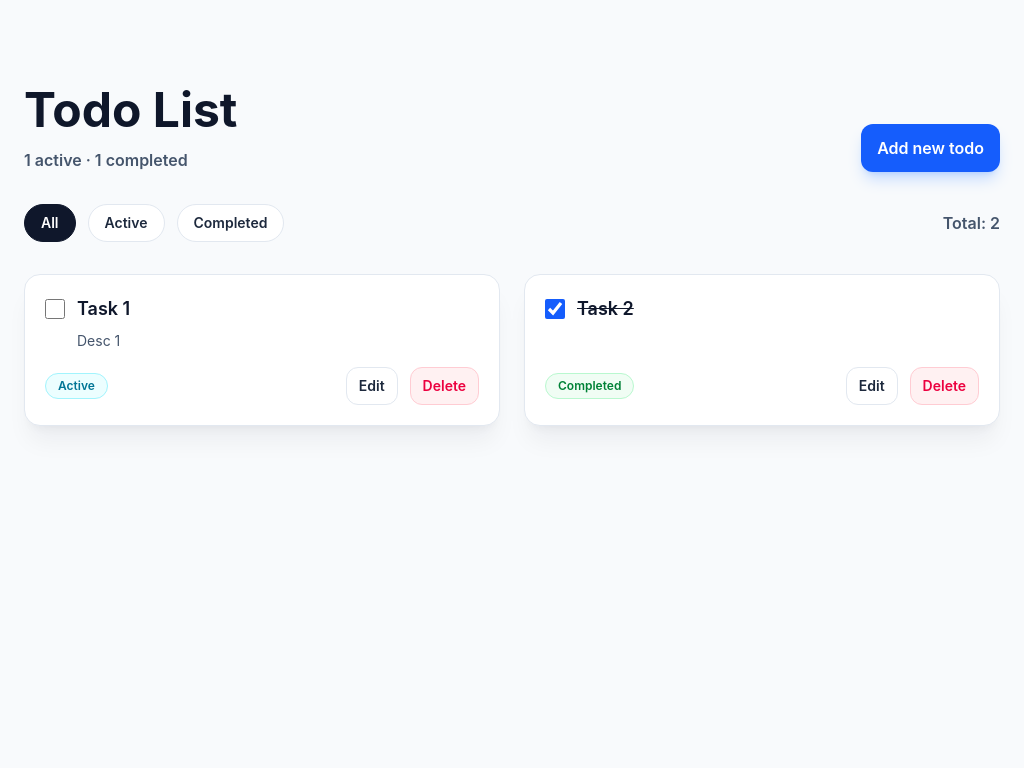
Test: TodoList › should delete todo with undo option
Expected: the heading "Task 1" is shown, 77,298 -> 130,319
Click the 1st button "Delete" at (444, 386), box 410,367 -> 479,405
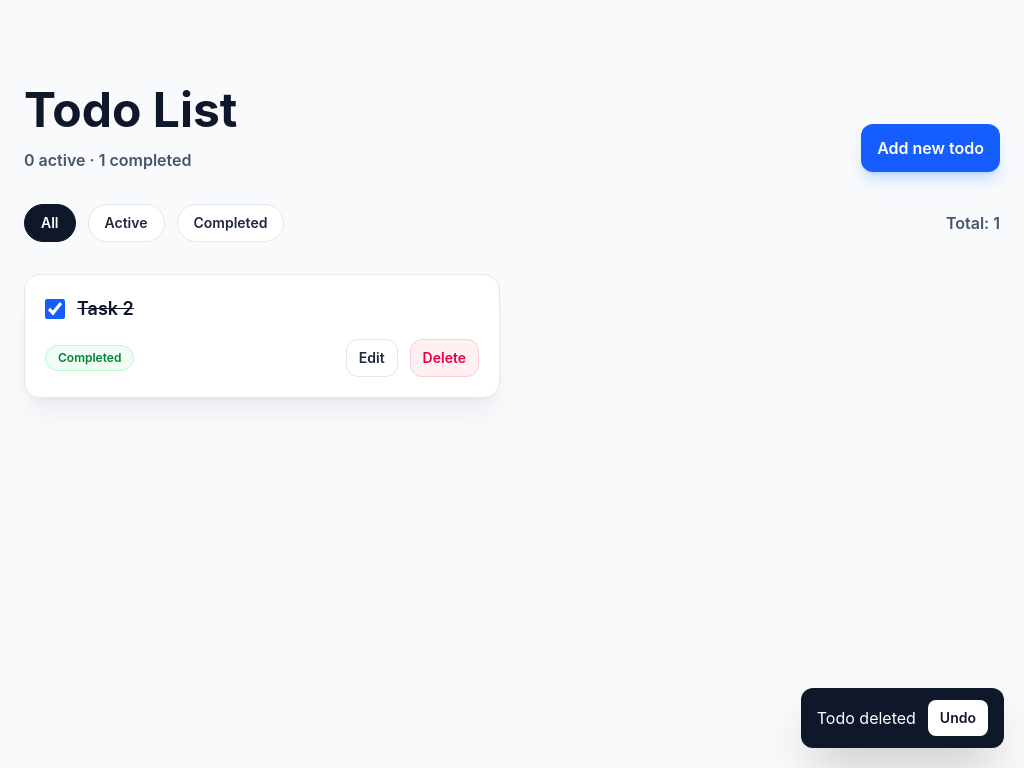
Expected: the text "Todo deleted" is shown, 817,706 -> 916,730
Expected: the button with aria-label "undo delete" is shown, 928,700 -> 988,736
